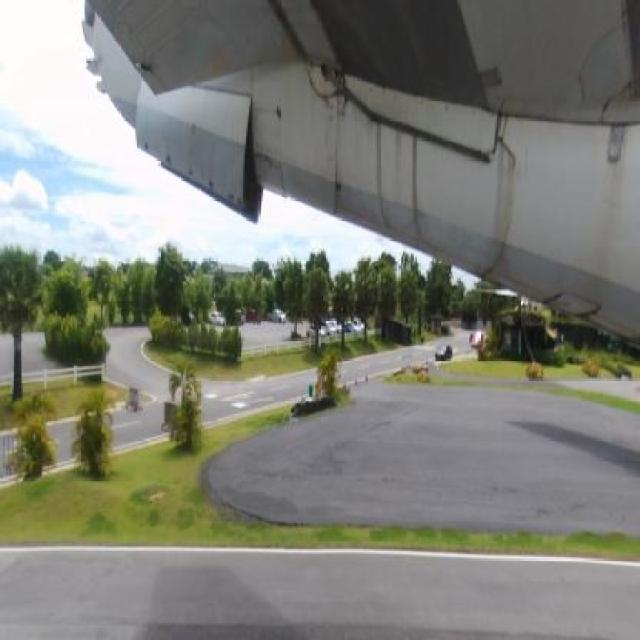Rust: (360, 101, 432, 237), (585, 121, 629, 307), (482, 122, 523, 296), (250, 93, 293, 181), (187, 30, 242, 93), (311, 56, 352, 136), (597, 62, 637, 121), (271, 21, 312, 68), (222, 180, 253, 228), (332, 165, 350, 218), (182, 159, 198, 193), (139, 134, 158, 160), (204, 167, 218, 199), (164, 146, 176, 168)
Scartch: (318, 88, 342, 157), (130, 50, 168, 92)
